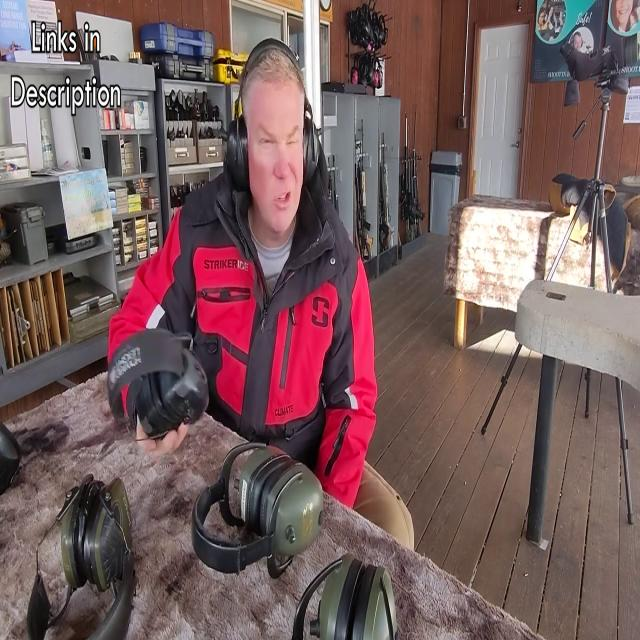earmuff: (224, 116, 252, 196), (298, 114, 320, 184)
